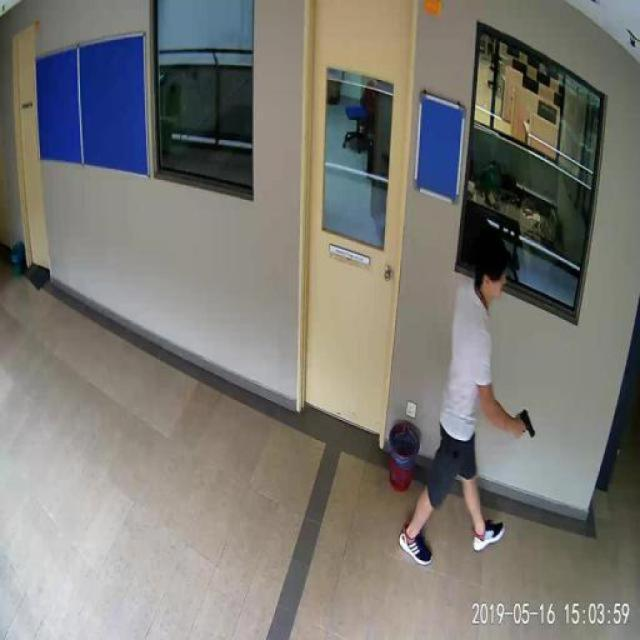pistol: (514, 406, 534, 440)
